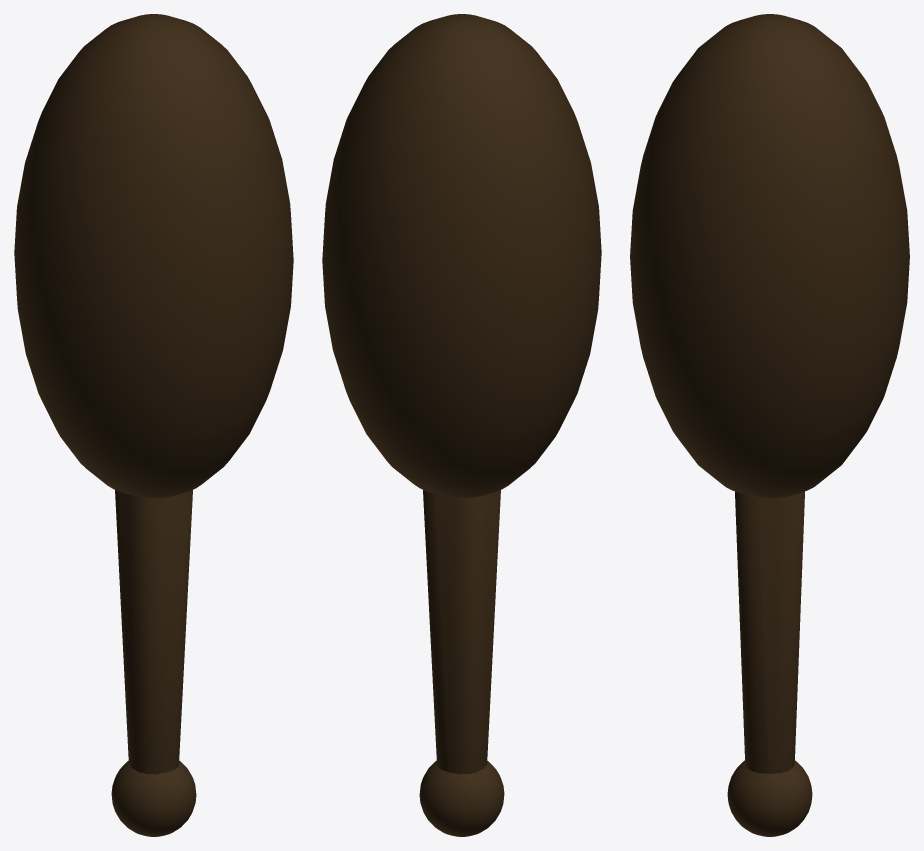
The model's file is massue.fbx.
3 renders of one model, left to right at view 1: azimuth 30°, elevation 25°; view 2: azimuth 150°, elevation 25°; view 3: azimuth 270°, elevation 25°, orthographic.
Visible parts, largest first — view 1: Cube; view 2: Cube; view 3: Cube.
Part boxes in pixels (box(x1,y1,x2,y2)): Cube: box(14, 14, 293, 836); Cube: box(322, 14, 601, 836); Cube: box(630, 14, 909, 836).
Size of the model in its own units: 146 by 468 by 146.
